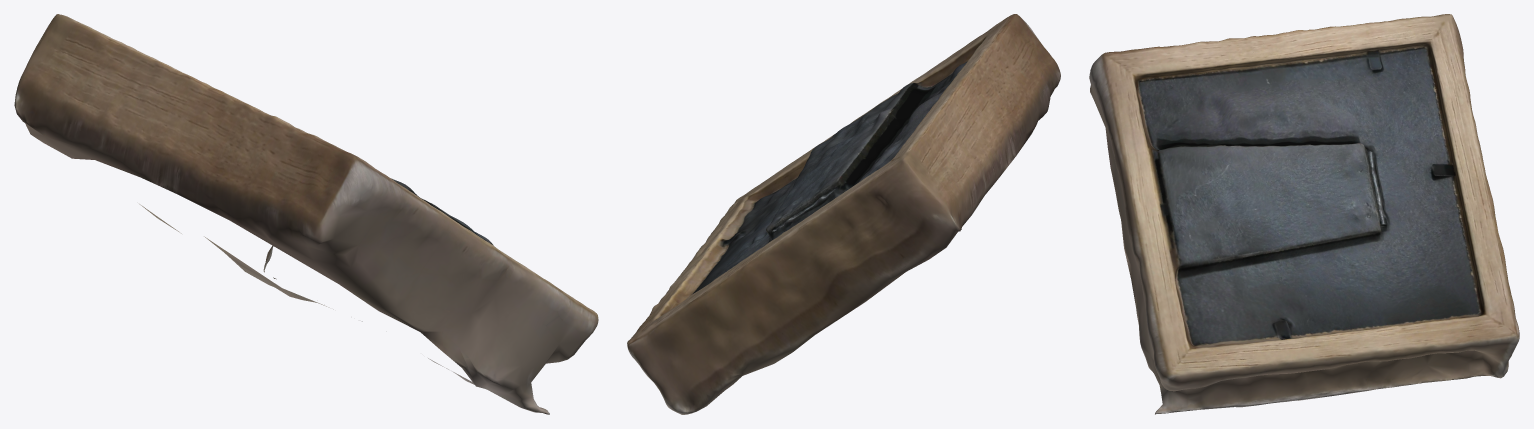
The picture shows the model from 3 angles, left to right: view 1: azimuth 30°, elevation 25°; view 2: azimuth 150°, elevation 25°; view 3: azimuth 270°, elevation 25°; orthographic projection. The views are drawn at different scales.
Bounding box in the file's own units: 0.7825 × 0.6121 × 0.8538.
Materials: 1 (1 with a texture image).
